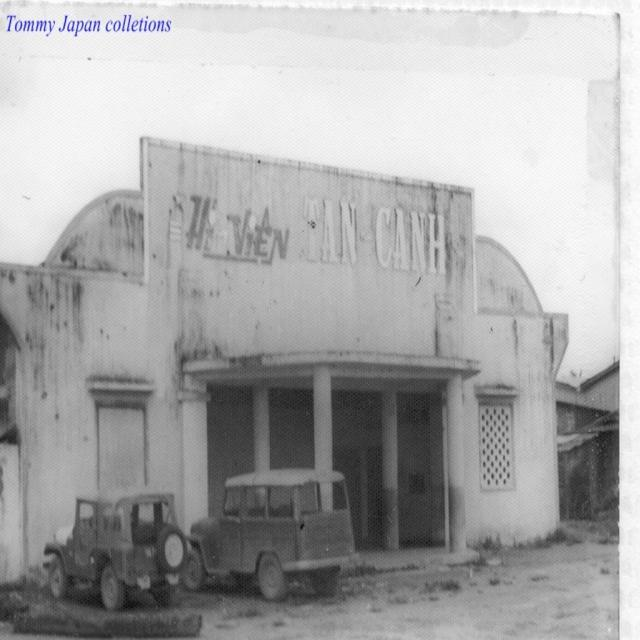car: (41, 492, 191, 611)
